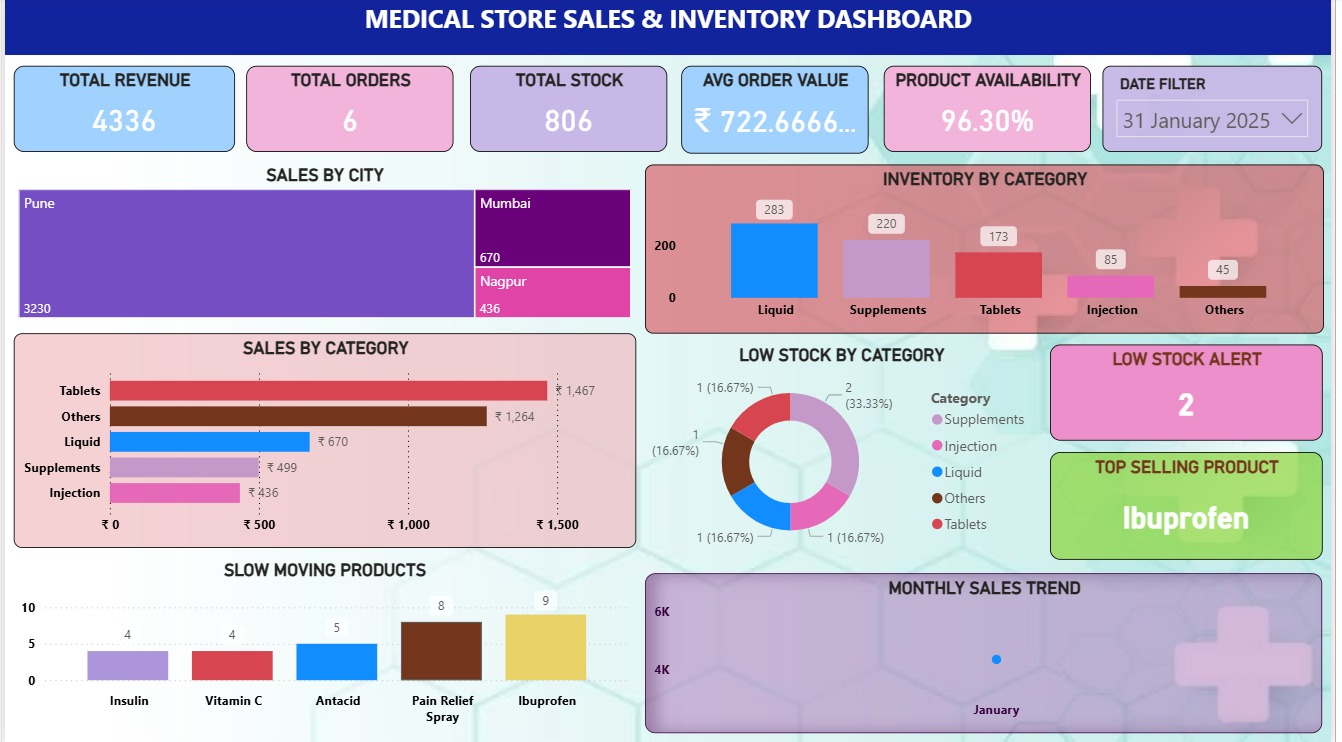

Layout of this report page (visuals, bound fields, positions):
{"tool":"powerbi","page":{"name":"Page 1","canvas":[1280,720],"ordinal":0},"visuals":[{"type":"textbox","box":[0,0,1280.3,56.3],"z":0},{"type":"card","title":"TOTAL REVENUE","fields":{"Values":["Sum(medical_store medical_store_sales_inventory_dataset.Total_Sales)"]},"box":[8.4,66.4,213.5,83.2],"z":1000},{"type":"card","title":"TOTAL ORDERS","fields":{"Values":["CountNonNull(medical_store medical_store_sales_inventory_dataset.Order_ID)"]},"box":[232.8,66.4,200.3,83.2],"z":2000},{"type":"card","title":"TOTAL STOCK","fields":{"Values":["Sum(medical_store medical_store_sales_inventory_dataset.Stock)"]},"box":[448.8,66.4,190.6,83.2],"z":3000},{"type":"card","title":"AVG ORDER VALUE","fields":{"Values":["medical_store medical_store_sales_inventory_dataset.Avg Order Value"]},"box":[652.7,66.4,181,84.5],"z":4000},{"type":"card","title":"PRODUCT AVAILABILITY","fields":{"Values":["medical_store medical_store_sales_inventory_dataset.Product Availability %"]},"box":[848.1,66.4,200.3,83.2],"z":5000},{"type":"lineChart","title":"MONTHLY SALES TREND","fields":{"Category":["medical_store medical_store_sales_inventory_dataset.Date.Variation.Date Hierarchy.Month"],"Y":["Sum(medical_store medical_store_sales_inventory_dataset.Total_Sales)"]},"box":[617.7,556.2,653.9,154.4],"z":6000},{"type":"lineClusteredColumnComboChart","title":"INVENTORY BY CATEGORY","fields":{"Category":["medical_store medical_store_sales_inventory_dataset.Category"],"Y":["Sum(medical_store medical_store_sales_inventory_dataset.Stock)"]},"box":[617.7,161.7,655.1,162.9],"z":7000},{"type":"clusteredBarChart","title":"SALES BY CATEGORY","fields":{"Category":["medical_store medical_store_sales_inventory_dataset.Category"],"Y":["Sum(medical_store medical_store_sales_inventory_dataset.Total_Sales)"]},"box":[8.4,324.5,600.8,207.5],"z":8000},{"type":"donutChart","title":"LOW STOCK BY CATEGORY","fields":{"Category":["medical_store medical_store_sales_inventory_dataset.Category"],"Y":["CountNonNull(medical_store medical_store_sales_inventory_dataset.Product_Name)"]},"box":[617.7,335.4,380,207.5],"z":9000},{"type":"card","title":"LOW STOCK ALERT","fields":{"Values":["medical_store medical_store_sales_inventory_dataset.Low Stock Alert"]},"box":[1008.6,335.4,263,92.9],"z":10000},{"type":"treemap","title":"SALES BY CITY","fields":{"Group":["medical_store medical_store_sales_inventory_dataset.City"],"Values":["Sum(medical_store medical_store_sales_inventory_dataset.Total_Sales)"]},"box":[8.4,161.7,600.8,153.2],"z":10001},{"type":"lineClusteredColumnComboChart","title":"SLOW MOVING PRODUCTS","fields":{"Category":["medical_store medical_store_sales_inventory_dataset.Product_Name"],"Y":["Sum(medical_store medical_store_sales_inventory_dataset.Quantity)"]},"box":[8.4,542.9,600.8,167.7],"z":10002},{"type":"card","title":"TOP SELLING PRODUCT","fields":{"Values":["medical_store medical_store_sales_inventory_dataset.Top Selling Product"]},"box":[1008.6,439.1,263,103.8],"z":10003},{"type":"slicer","fields":{"Values":["medical_store medical_store_sales_inventory_dataset.Date"]},"box":[1059.3,66.4,212.3,83.2],"z":10004}]}

Visuals, with their boxes in screenshot pixels (x1, y1, x2, y2), scaled from the page's 1280x720 canvas onto the 1342x742 screenshot:
textbox: left=0, top=0, right=1341, bottom=58
"TOTAL REVENUE" card: left=9, top=68, right=233, bottom=154
"TOTAL ORDERS" card: left=244, top=68, right=454, bottom=154
"TOTAL STOCK" card: left=471, top=68, right=670, bottom=154
"AVG ORDER VALUE" card: left=684, top=68, right=874, bottom=156
"PRODUCT AVAILABILITY" card: left=889, top=68, right=1099, bottom=154
"MONTHLY SALES TREND" lineChart: left=648, top=573, right=1333, bottom=732
"INVENTORY BY CATEGORY" lineClusteredColumnComboChart: left=648, top=167, right=1334, bottom=335
"SALES BY CATEGORY" clusteredBarChart: left=9, top=334, right=639, bottom=548
"LOW STOCK BY CATEGORY" donutChart: left=648, top=346, right=1046, bottom=559
"LOW STOCK ALERT" card: left=1057, top=346, right=1333, bottom=441
"SALES BY CITY" treemap: left=9, top=167, right=639, bottom=325
"SLOW MOVING PRODUCTS" lineClusteredColumnComboChart: left=9, top=559, right=639, bottom=732
"TOP SELLING PRODUCT" card: left=1057, top=453, right=1333, bottom=559
slicer - medical_store medical_store_sales_inventory_dataset.Date: left=1111, top=68, right=1333, bottom=154
